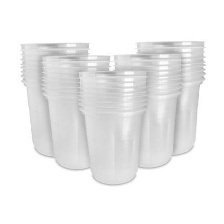glass: (16, 38, 95, 162), (36, 50, 116, 171), (131, 35, 207, 160), (73, 67, 149, 187), (110, 49, 184, 172)
